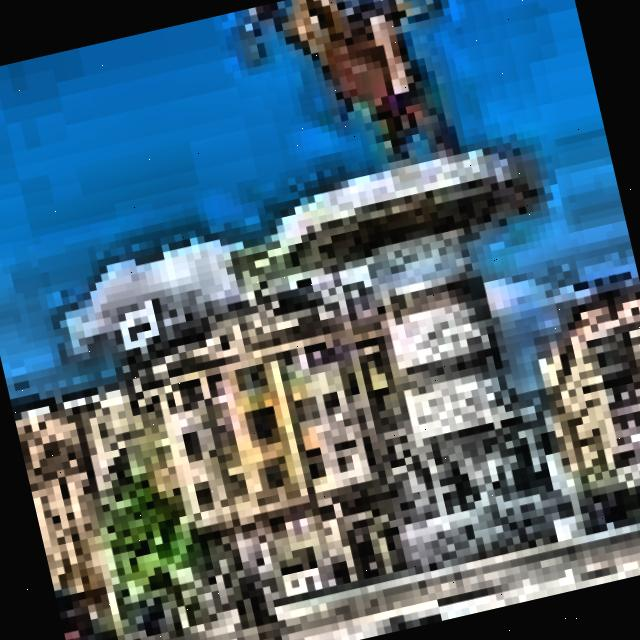alexander the great monument: (191, 0, 640, 616)
